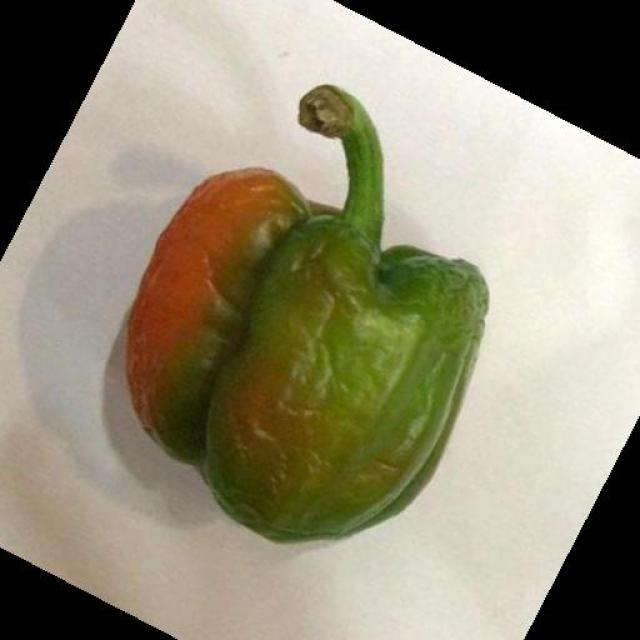Stale_Capsicum: (152, 95, 487, 544)
